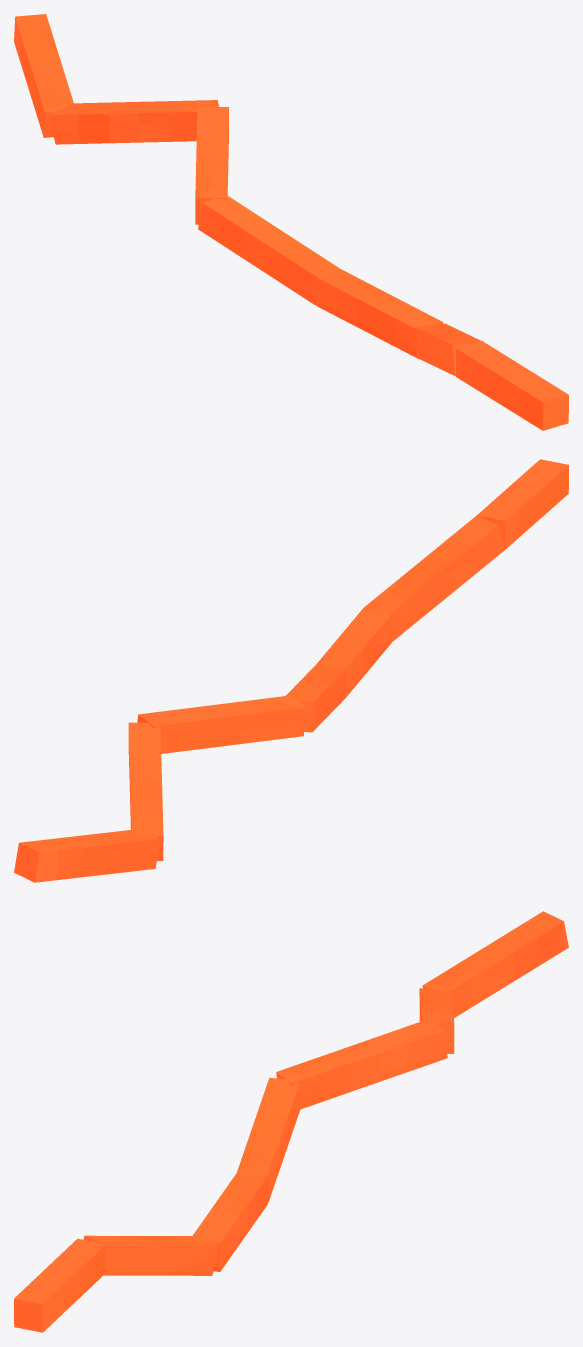
File: fx_arc_e.glb
The picture shows the model from 3 angles, top to bottom: view 1: azimuth 30°, elevation 25°; view 2: azimuth 150°, elevation 25°; view 3: azimuth 330°, elevation 25°; orthographic projection.
Visible parts, largest first — view 1: fx_arc_e; view 2: fx_arc_e; view 3: fx_arc_e.
Part boxes in pixels (<box>): fx_arc_e: <box>14,14,568,430</box>; fx_arc_e: <box>14,459,568,882</box>; fx_arc_e: <box>14,911,568,1332</box>.
Size of the model in its own units: 0.1158 by 0.0861 by 1.01.
1 material, 1 textured.
